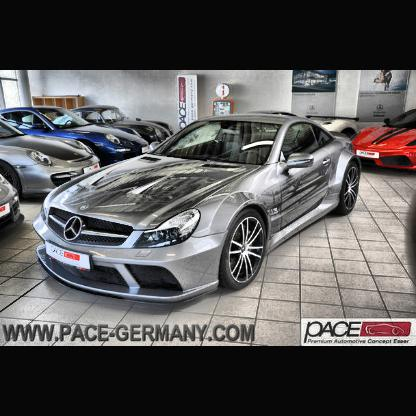Mercedes-Benz SL-Class Coupe 2009: (33, 111, 363, 305)
